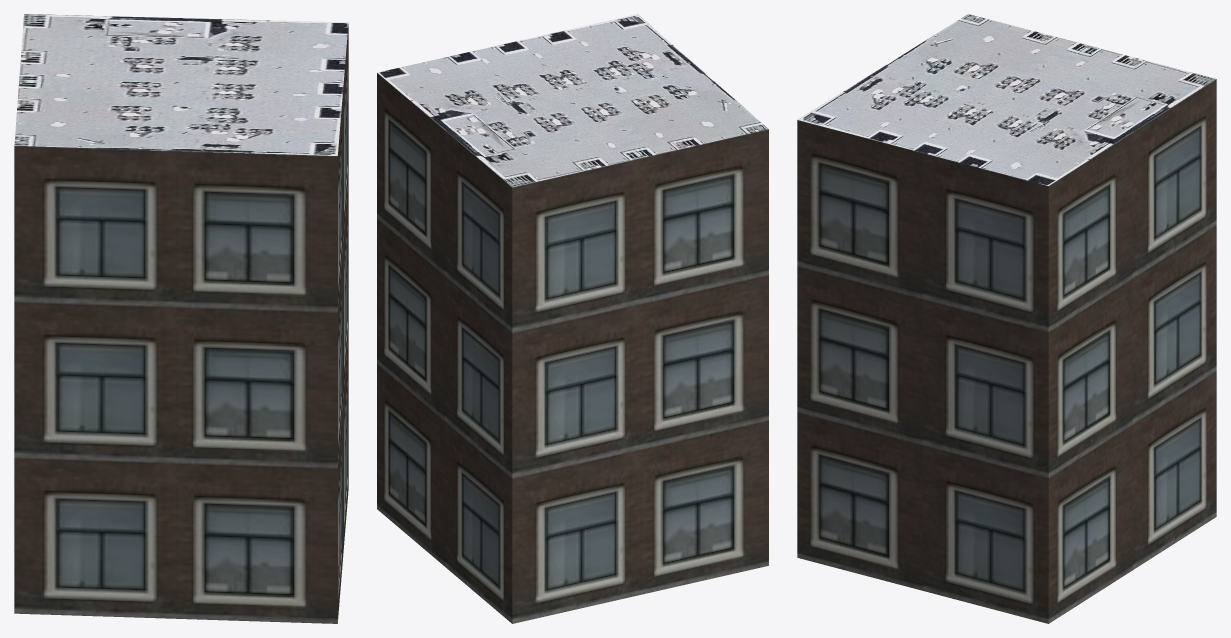
The model's file is ResTex__1078.fbx.
The picture shows the model from 3 angles, left to right: view 1: azimuth 30°, elevation 25°; view 2: azimuth 150°, elevation 25°; view 3: azimuth 270°, elevation 25°; orthographic projection. The views are drawn at different scales.
Visible parts, largest first — view 1: CityEngineMaterial_16_m, CityEngineMaterial_15_m; view 2: CityEngineMaterial_16_m, CityEngineMaterial_15_m; view 3: CityEngineMaterial_16_m, CityEngineMaterial_15_m.
Boxes of the visible parts, box(x1,y1,x2,y2) form: CityEngineMaterial_16_m: box(14, 24, 348, 623); CityEngineMaterial_15_m: box(14, 14, 348, 155); CityEngineMaterial_16_m: box(377, 73, 768, 623); CityEngineMaterial_15_m: box(377, 14, 768, 187); CityEngineMaterial_16_m: box(797, 79, 1216, 623); CityEngineMaterial_15_m: box(797, 14, 1215, 185).
Size of the model in its own units: 7.59 by 9 by 7.81.
2 materials, 2 textured.
